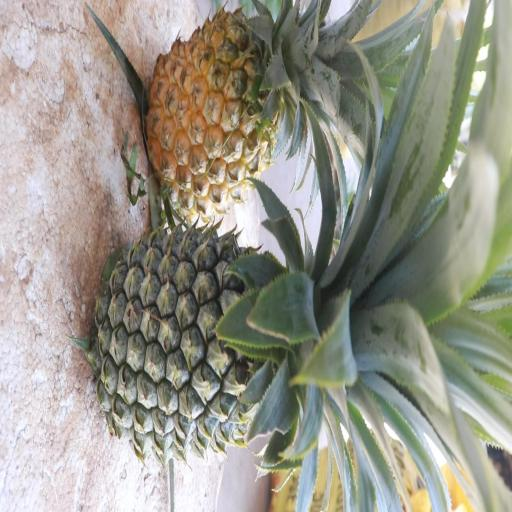Pineapple - v8 v1: (146, 0, 394, 191)
